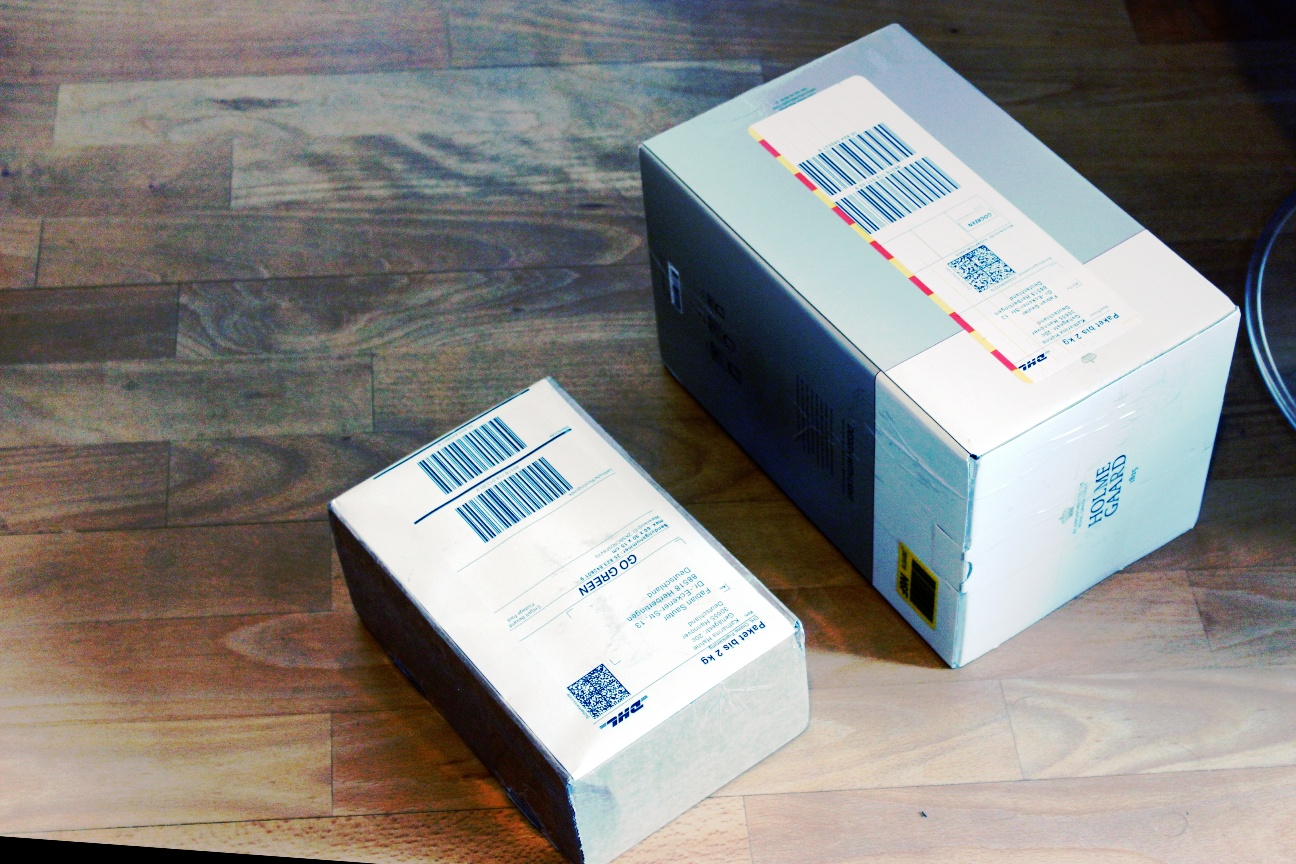good-parcel: (633, 3, 1281, 680), (307, 370, 814, 862)
